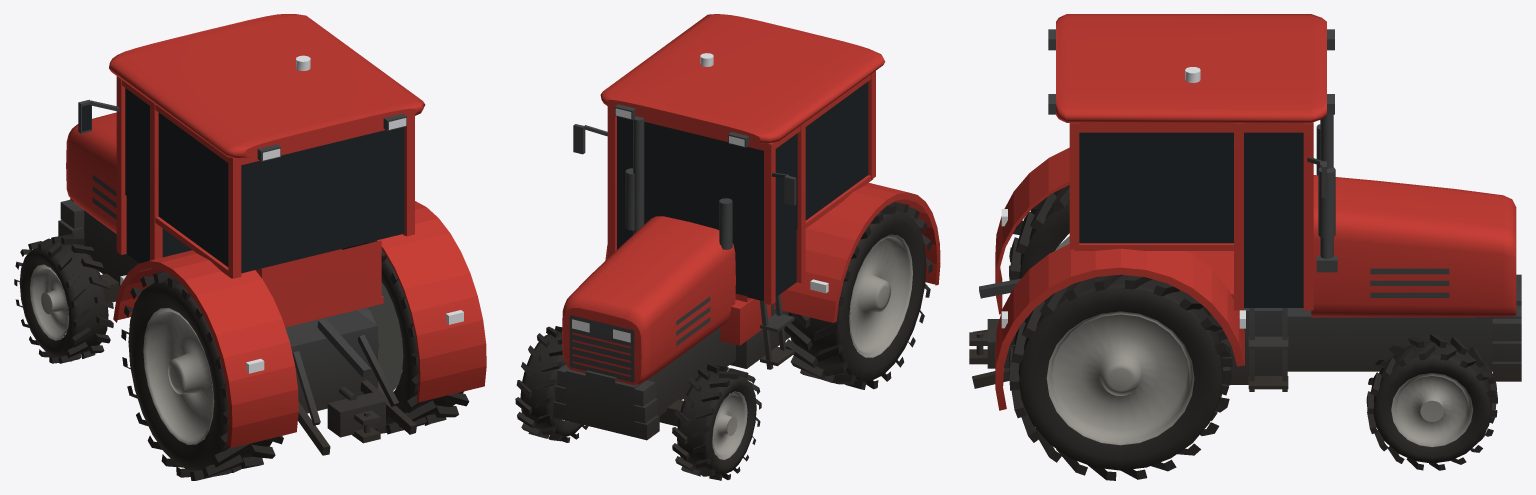
The model's file is farm-tractor.glb.
The picture shows the model from 3 angles, left to right: view 1: azimuth 30°, elevation 25°; view 2: azimuth 150°, elevation 25°; view 3: azimuth 270°, elevation 25°; orthographic projection. The views are drawn at different scales.
Visible parts, largest first — view 1: tractor_body, wheel_rear_left, wheel_front_left, wheel_rear_right; view 2: tractor_body, wheel_rear_left, wheel_front_left, wheel_front_right; view 3: tractor_body, wheel_rear_right, wheel_front_right, wheel_rear_left.
Boxes of the visible parts, bbox=[...] form: tractor_body: bbox=[58, 14, 486, 455]; wheel_rear_left: bbox=[121, 271, 283, 480]; wheel_front_left: bbox=[14, 234, 113, 363]; wheel_rear_right: bbox=[342, 241, 469, 434]; tractor_body: bbox=[553, 14, 940, 440]; wheel_rear_left: bbox=[784, 202, 932, 389]; wheel_front_left: bbox=[672, 364, 761, 480]; wheel_front_right: bbox=[515, 326, 588, 442]; tractor_body: bbox=[969, 14, 1521, 410]; wheel_rear_right: bbox=[1009, 274, 1232, 480]; wheel_front_right: bbox=[1366, 334, 1497, 470]; wheel_rear_left: bbox=[1009, 185, 1069, 321].
Bounding box in the file's own units: 2.34 × 3.08 × 4.2.
